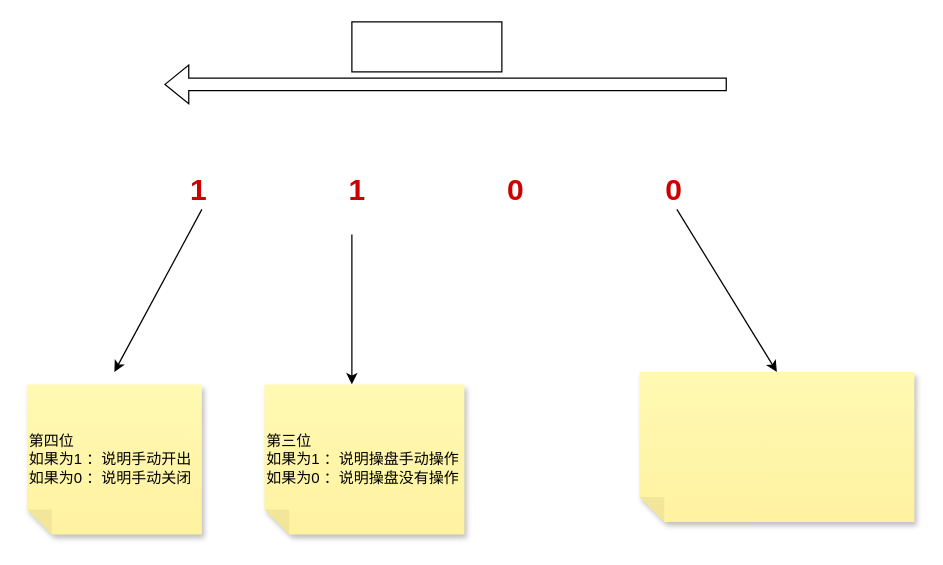
The diagram is 943 pixels wide and 565 high, and some of its shapes have lost their labels. Each missing label, with the centre of its shape:
"从右往左开始" belongs at point (426, 46).
"第一位 如果为1 ：说明赛事源主客队不一致 如果为0 ：说明 赛事源主客队一致" belongs at point (777, 448).
